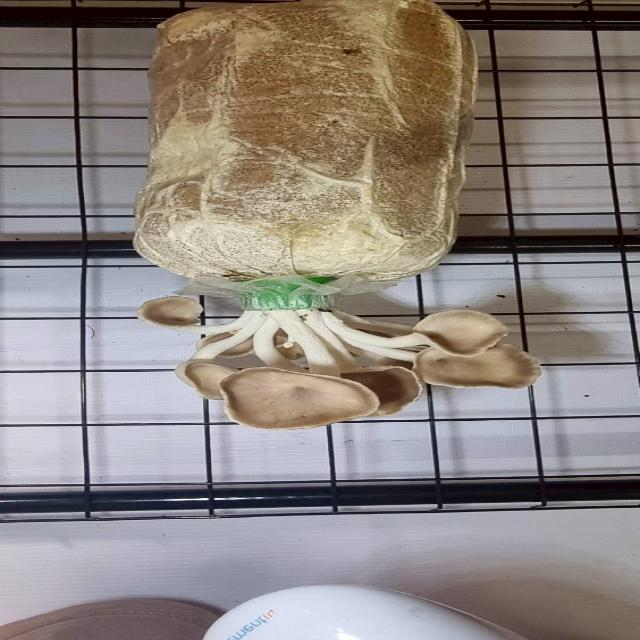normal: (379, 301, 556, 392), (206, 363, 384, 432)
